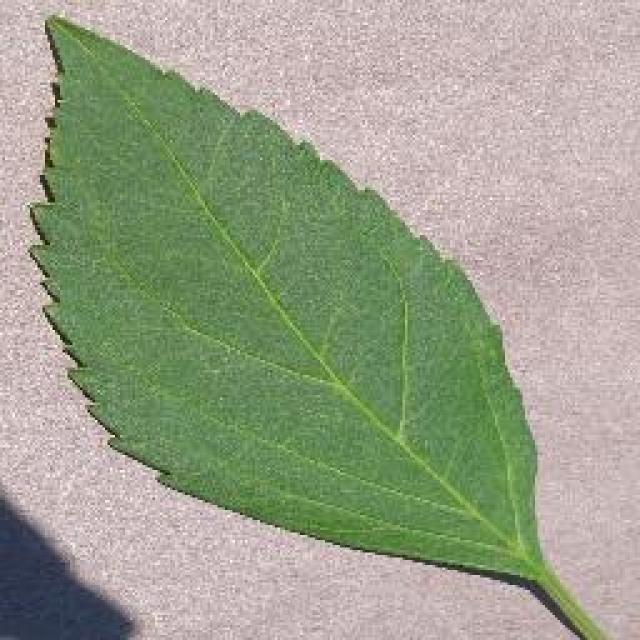Cherry___healthy: (8, 5, 630, 640)
